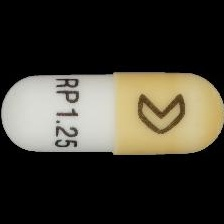54868-5896: (0, 0, 224, 224)
